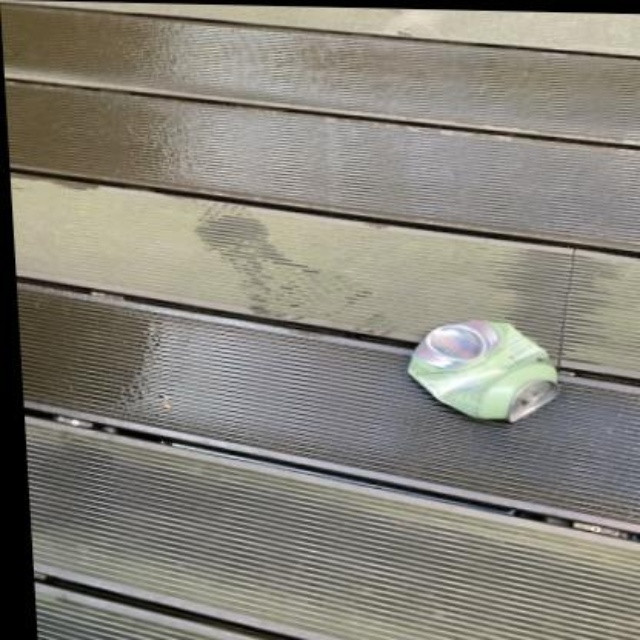trash: (408, 320, 557, 422)
